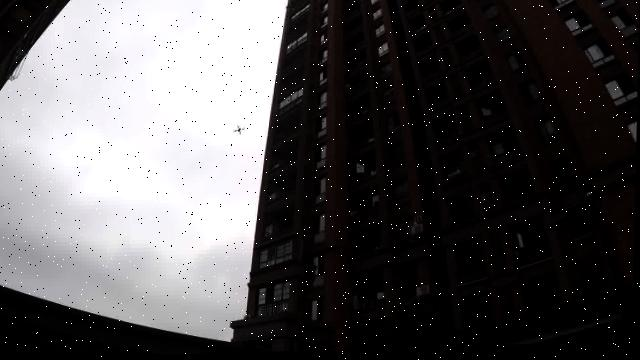drone: (231, 113, 260, 140)
